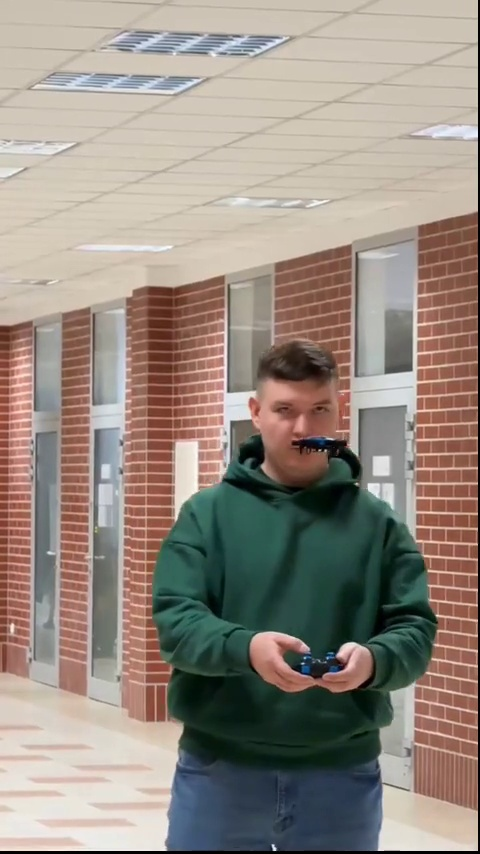drone: (292, 434, 346, 456)
no vest: (153, 337, 437, 853)
